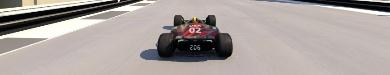Car: (155, 14, 233, 57)
obstacles-Borders: (0, 0, 154, 37)
